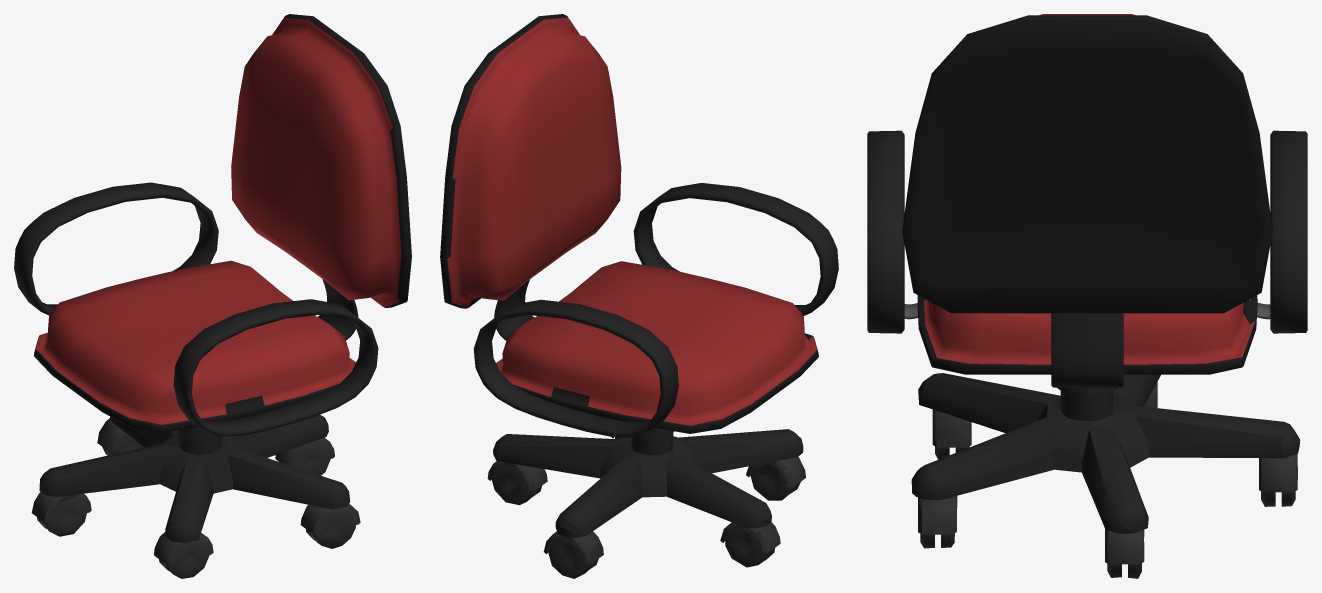
File: sedia.fbx
3 renders of one model, left to right at view 1: azimuth 30°, elevation 25°; view 2: azimuth 150°, elevation 25°; view 3: azimuth 270°, elevation 25°, orthographic. The views are drawn at different scales.
Parts seen in each view (by area): view 1: swivel chair; view 2: swivel chair; view 3: swivel chair.
Boxes of the visible parts, x1,y1,x2,y2 form: swivel chair: (14,14,411,578); swivel chair: (440,14,838,578); swivel chair: (867,14,1307,578).
Size of the model in its own units: 75.63 by 114 by 79.54.
